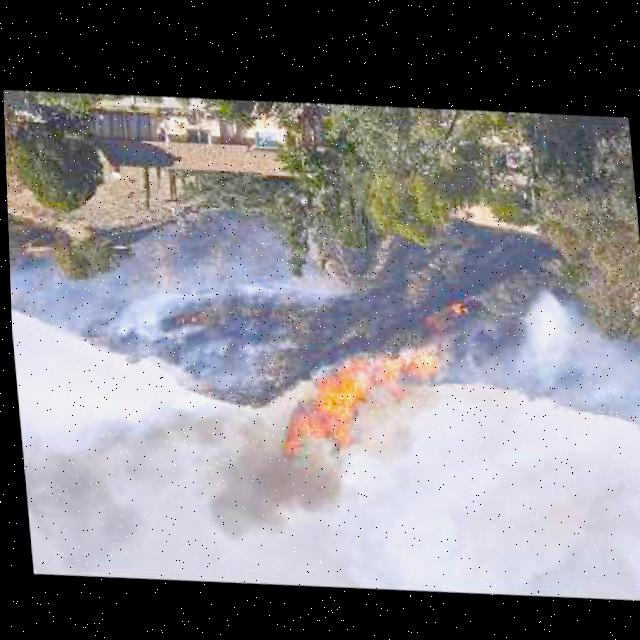Fire: (264, 329, 443, 483)
Smoke: (5, 187, 354, 416), (32, 392, 337, 582), (439, 269, 640, 457)
